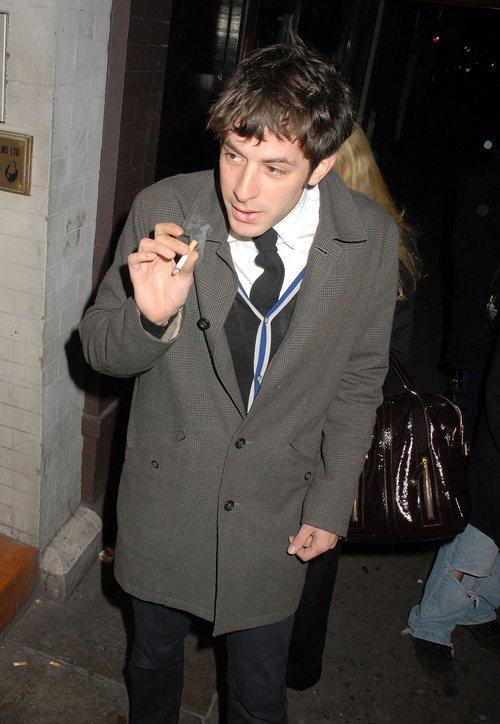person: (78, 40, 403, 723)
